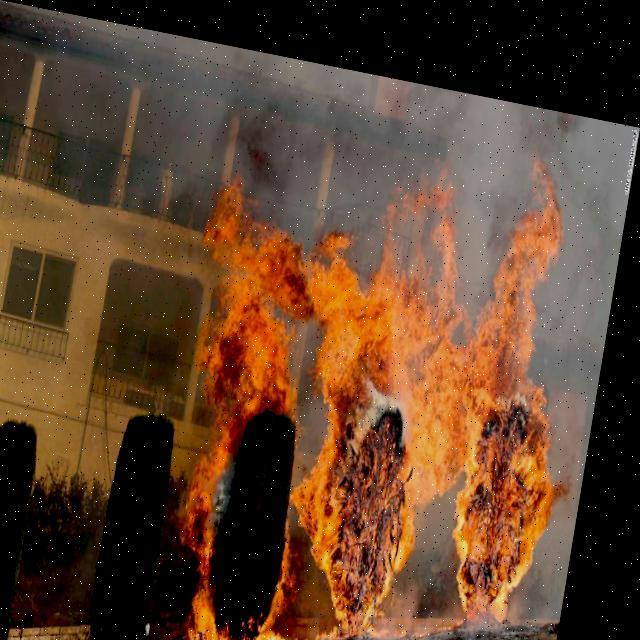Fire: (171, 126, 613, 639)
